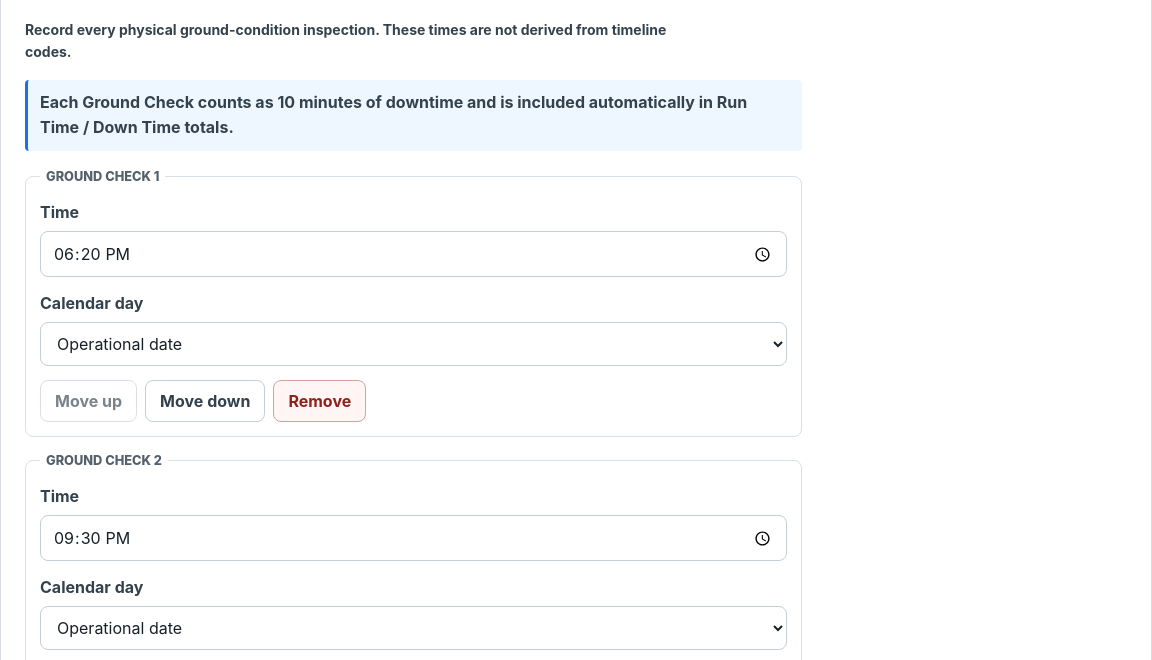
DraglineDelayReportForm › does not replace defaults after a Ground Check calendar day is changed
(page scrolled)
Step 1. Select "Next day" in the dropdown named "Ground Check calendar day 1" → (413, 344), box [40,322,787,366]
(page scrolled)
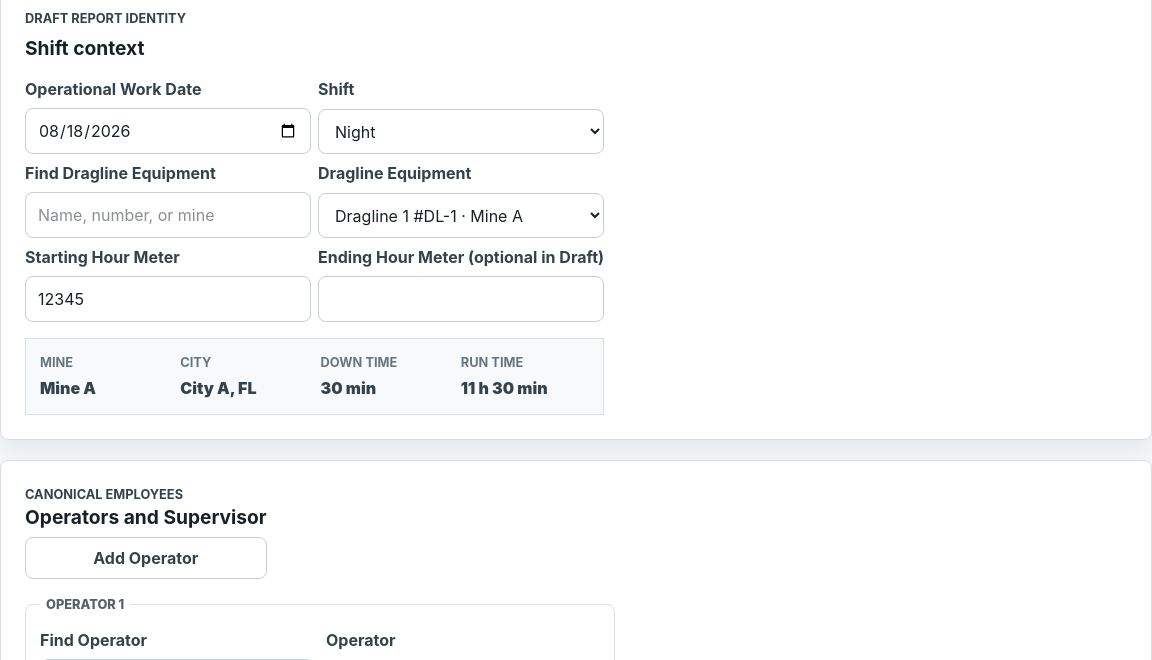
Step 2. Select "Day" in the dropdown labelled "Shift" → (461, 132), box [318,109,604,154]
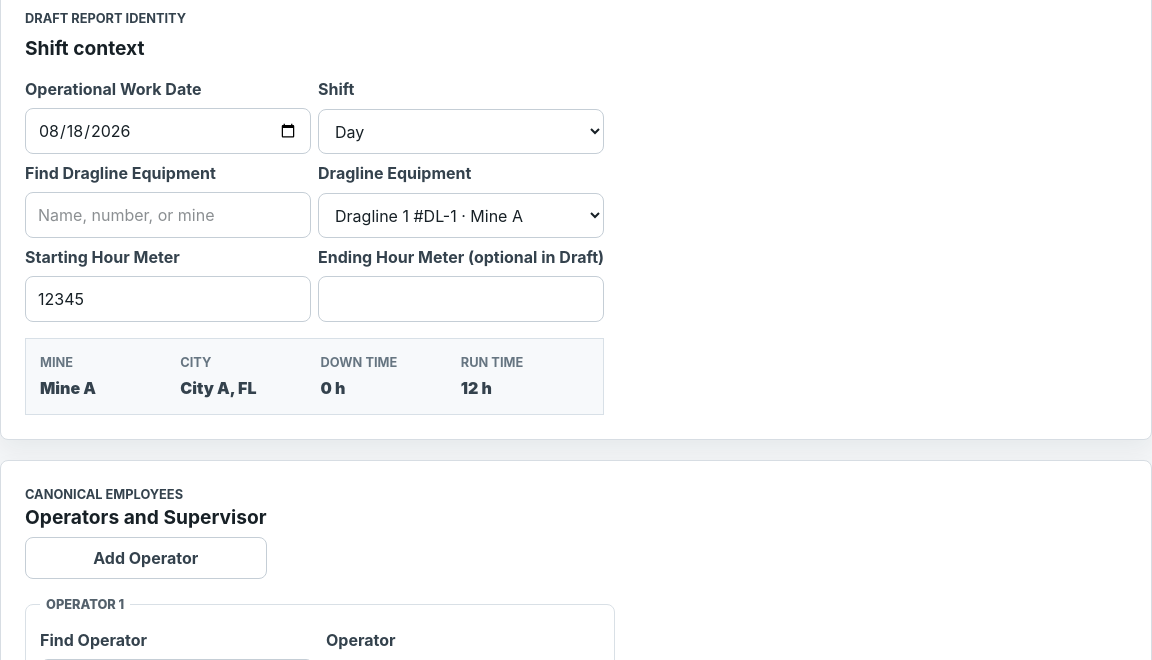
Step 3. Select "Night" in the dropdown labelled "Shift" → (461, 132), box [318,109,604,154]
(page scrolled)
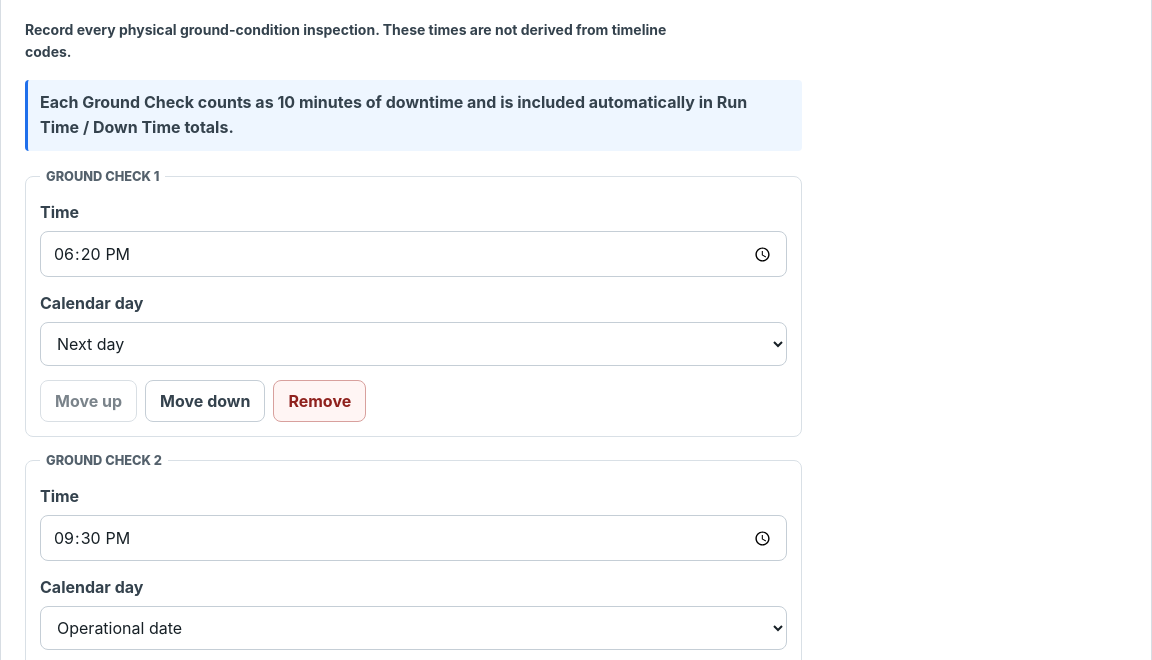
Expected: the time field named "Ground Check time 1" holds "18:20", [40,231,787,277]
Expected: the dropdown named "Ground Check calendar day 1" shows "Next day", [40,322,787,366]
